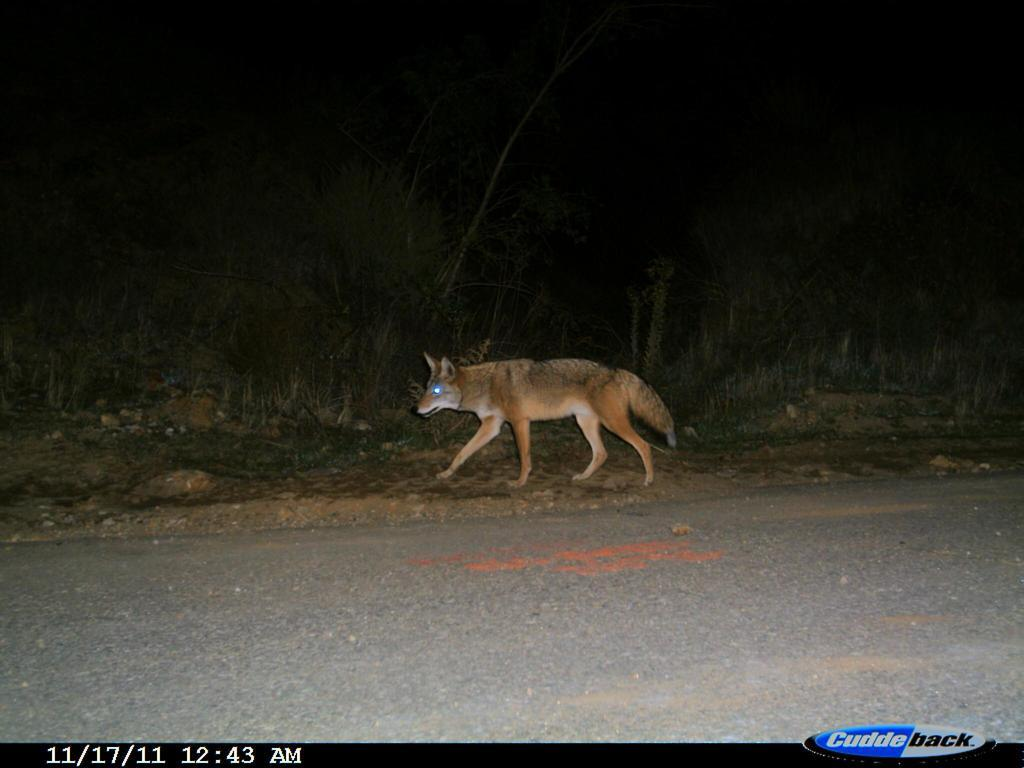coyote: (411, 344, 676, 498)
